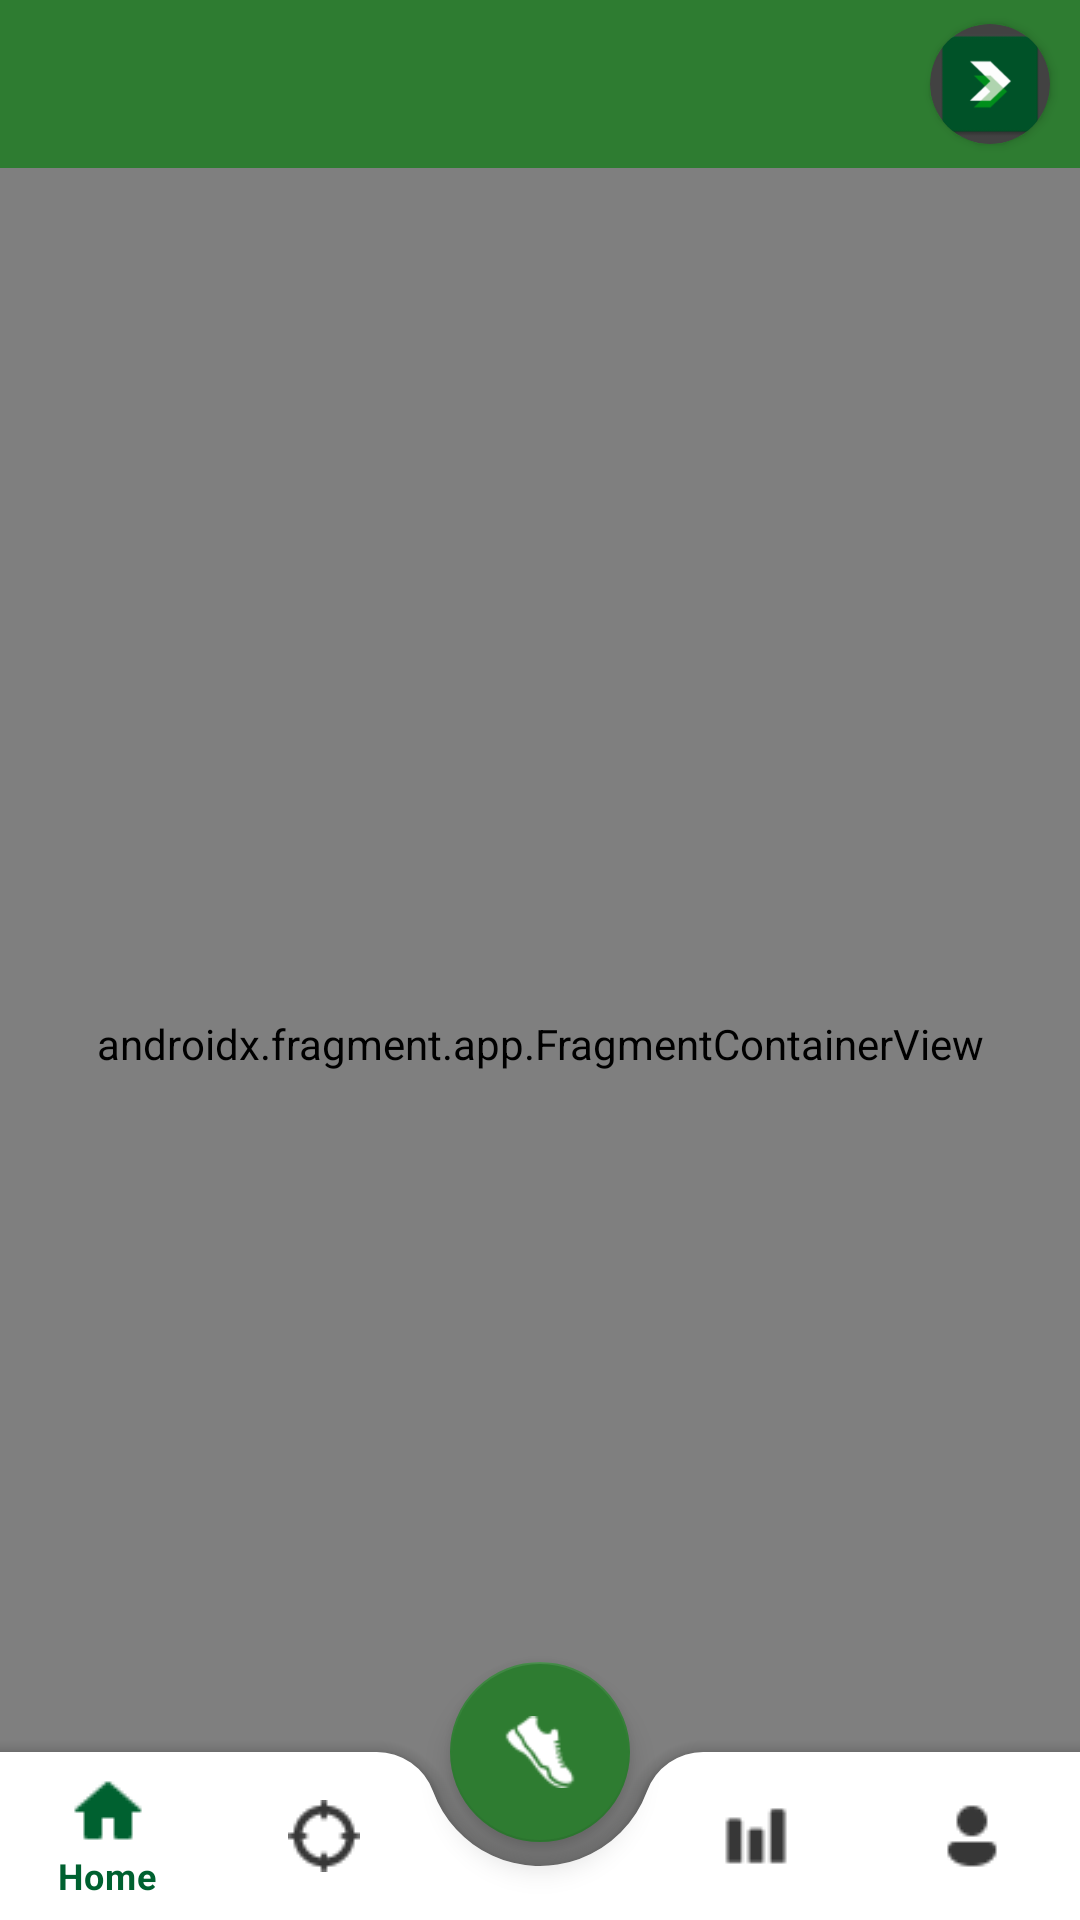

Named icons in this screenshot (1080px×1920px) and their bounding boxes, (x1,y1,x2,y2):
trainers: (450,1662,630,1842)
